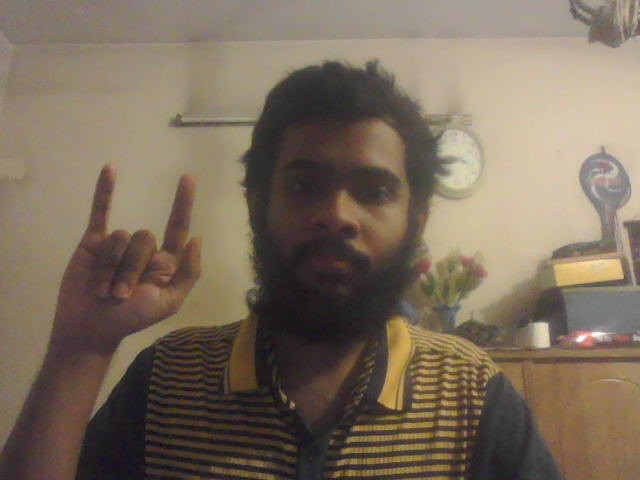I Love You: (51, 165, 208, 338)
